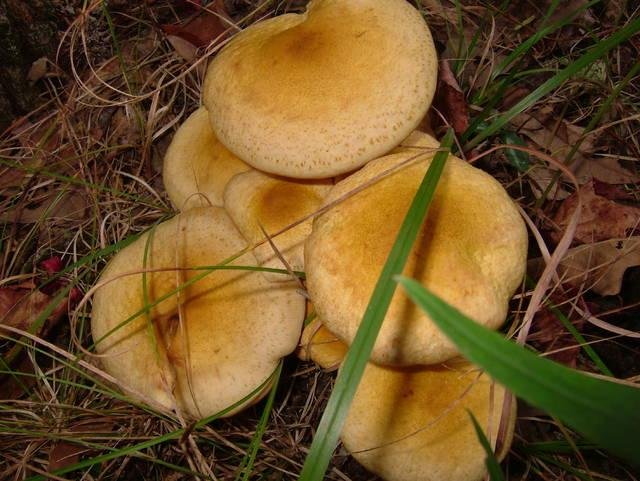edible_mushroom: (88, 0, 529, 480), (89, 204, 306, 424), (200, 0, 439, 180)
